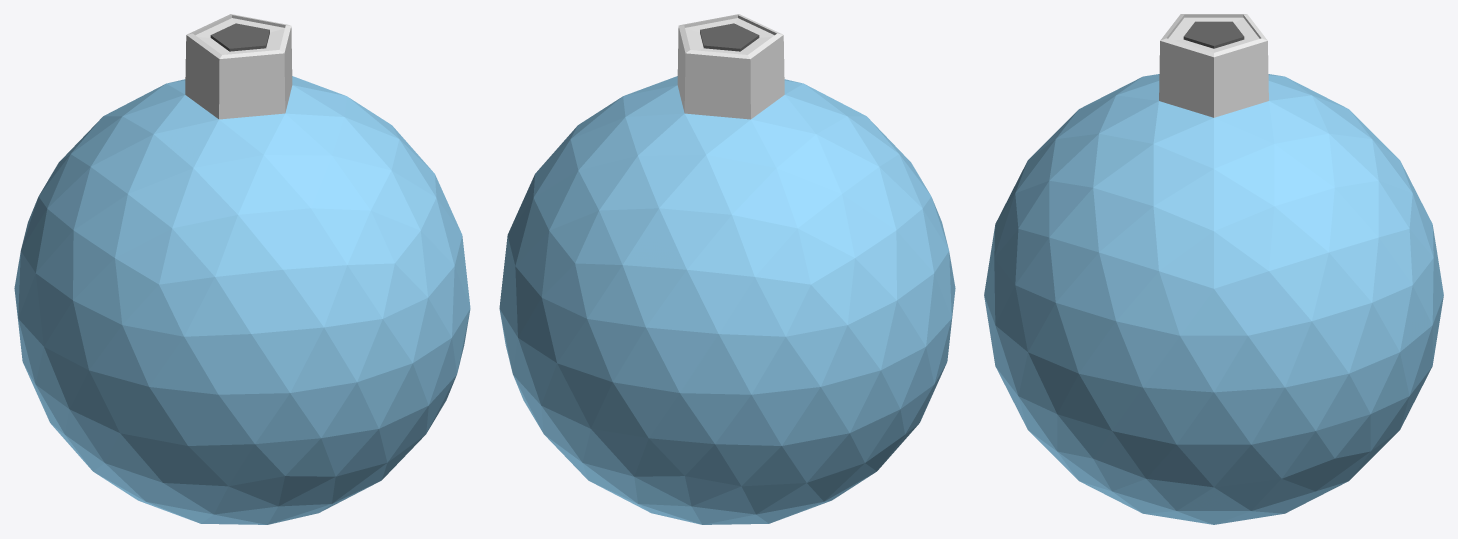
Rendered from Dome.fbx.
3 views of the same model, side by side, from view 1: azimuth 30°, elevation 25°; view 2: azimuth 150°, elevation 25°; view 3: azimuth 270°, elevation 25° (orthographic).
Parts seen in each view (by area): view 1: Dome, Hatch.001; view 2: Dome, Hatch.001; view 3: Dome, Hatch.001.
Boxes of the visible parts, left/top/right/bottom form: Dome: left=14, top=14, right=470, bottom=524; Hatch.001: left=195, top=18, right=284, bottom=54; Dome: left=499, top=14, right=955, bottom=524; Hatch.001: left=685, top=18, right=774, bottom=54; Dome: left=984, top=14, right=1443, bottom=524; Hatch.001: left=1168, top=17, right=1259, bottom=52.
Size of the model in its own units: 206 by 233 by 206.
